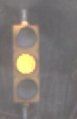Yellow: (3, 12, 49, 119)
